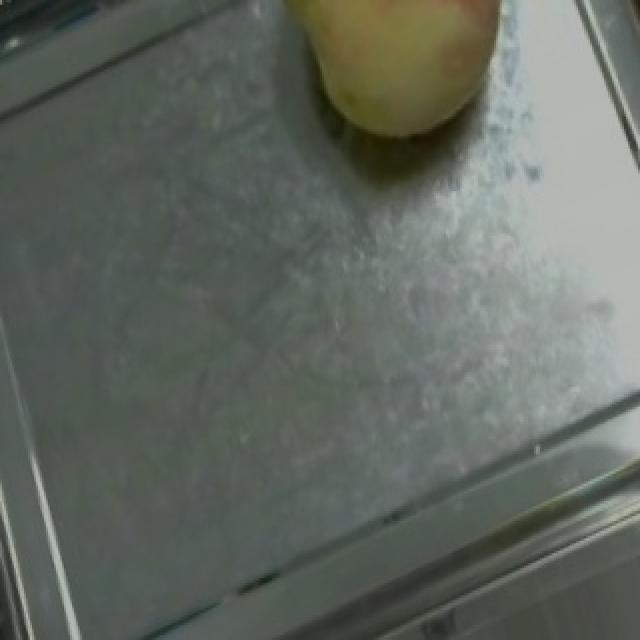Fruit: (246, 0, 542, 176)
